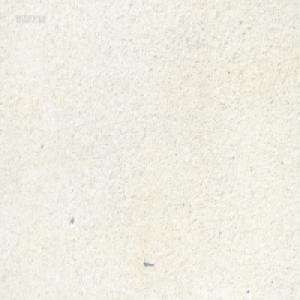Nail: (143, 259, 154, 267)
